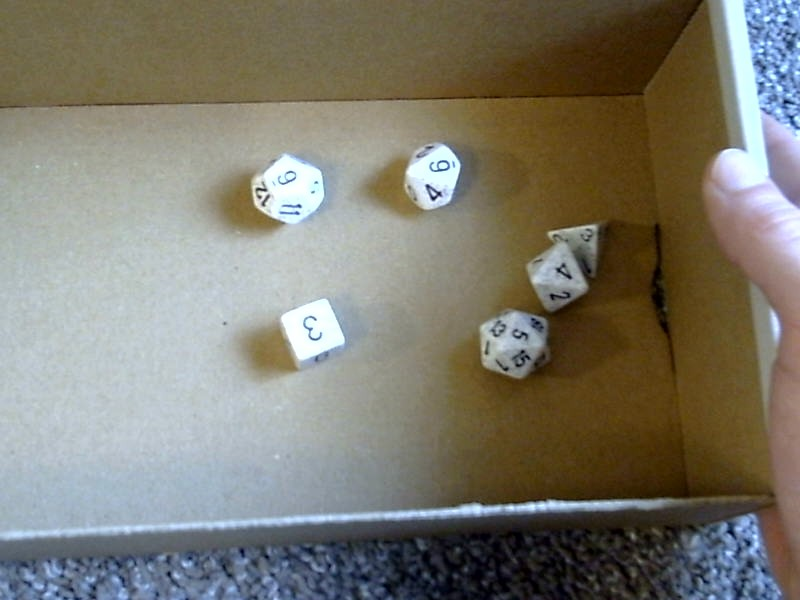d10 6: (399, 143, 464, 214)
d12 9: (243, 144, 333, 230)
d20 5: (474, 309, 552, 388)
d4 3: (547, 212, 618, 276)
d6 3: (271, 293, 350, 379)
d8 4: (517, 242, 586, 309)
